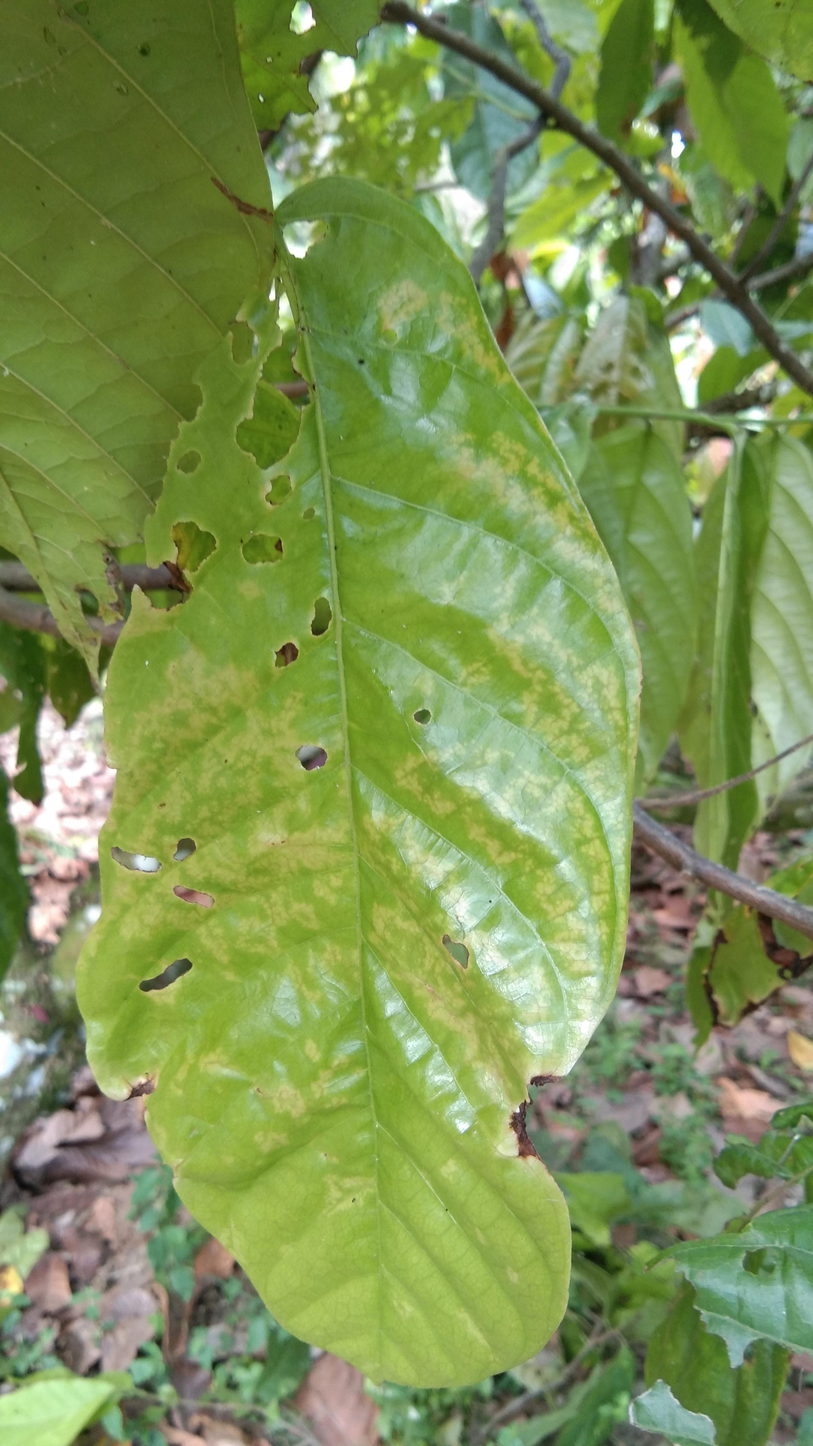deficiencia_potasio: (6, 53, 654, 1413)
